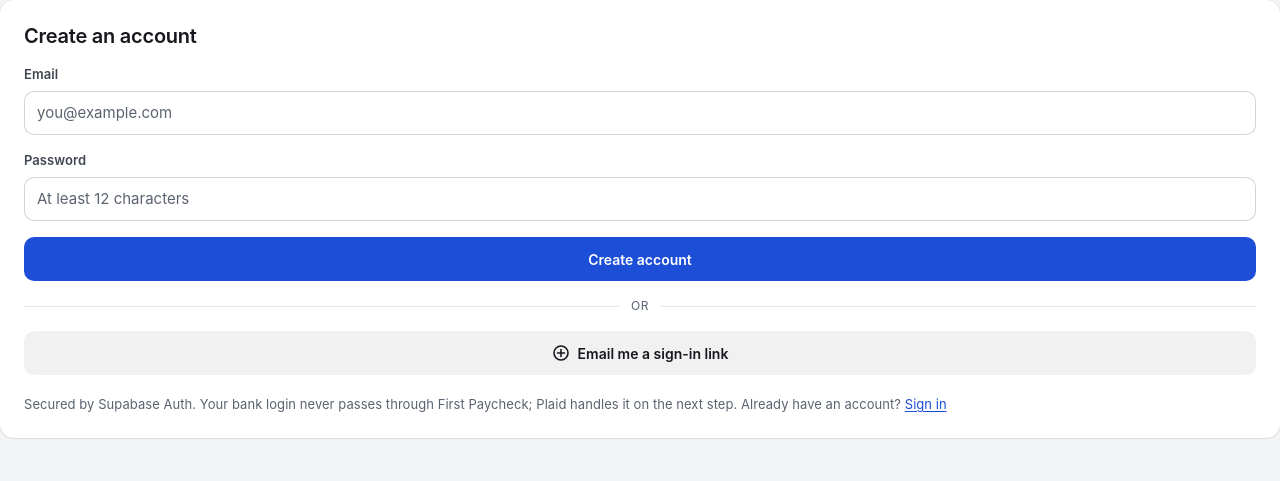
AuthForm, create an account › asks for at least 12 characters as soon as the password field is left
In the password field labelled "Password": (640, 199) 24,176 -> 1256,221, type "short"
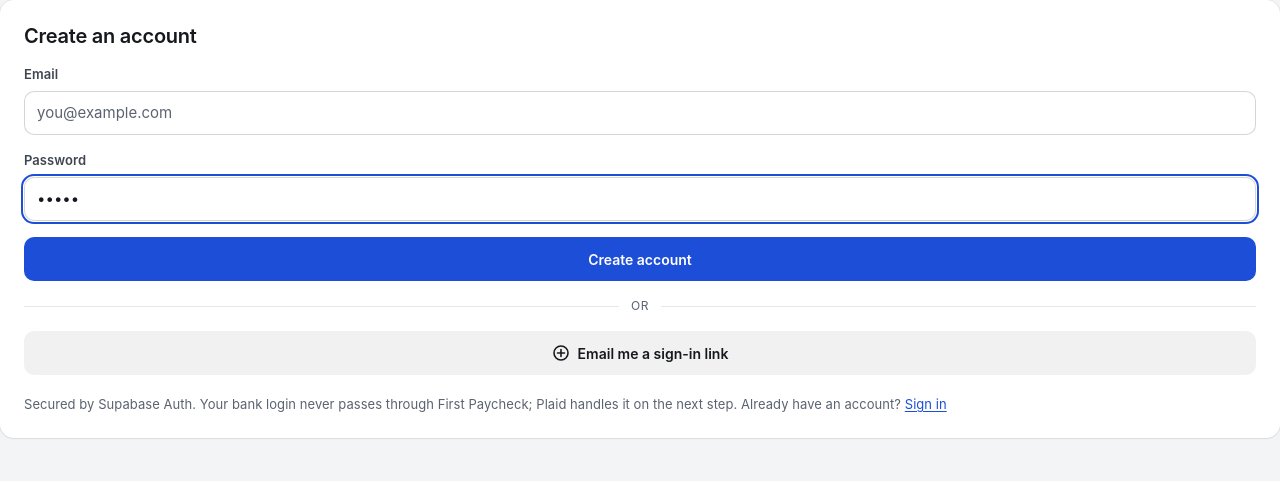
Press Tab
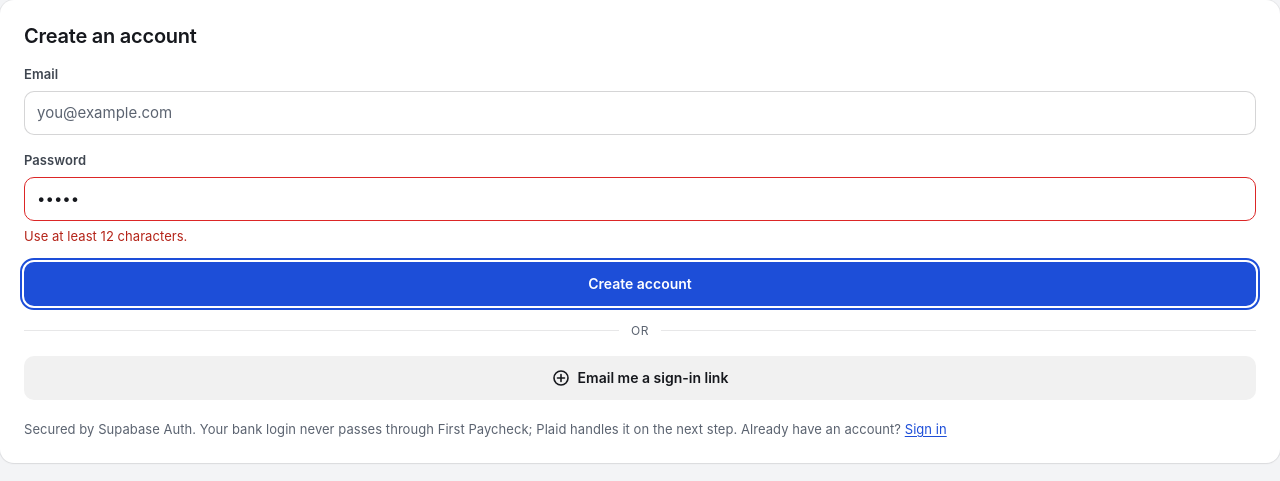
Expected: the text "Use at least 12 characters." is shown, 24,228 -> 187,244
